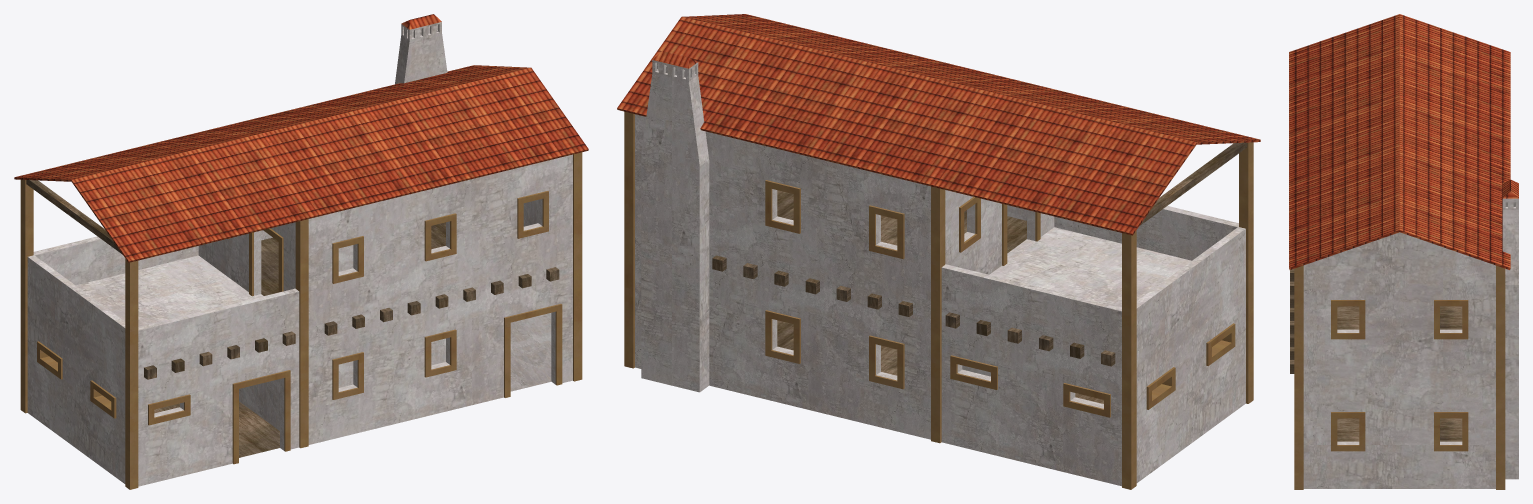
Rendered from house_c.glb.
3 views of the same model, side by side, from view 1: azimuth 30°, elevation 25°; view 2: azimuth 150°, elevation 25°; view 3: azimuth 270°, elevation 25° (orthographic). The views are drawn at different scales.
Visible parts, largest first — view 1: prefab; view 2: prefab; view 3: prefab.
Part boxes in pixels (<box>): prefab: <box>14,14,588,489</box>; prefab: <box>617,14,1260,489</box>; prefab: <box>1289,14,1518,489</box>.
Bounding box in the file's own units: 15.15 × 9.2 × 6.8.
4 materials, 4 textured.
